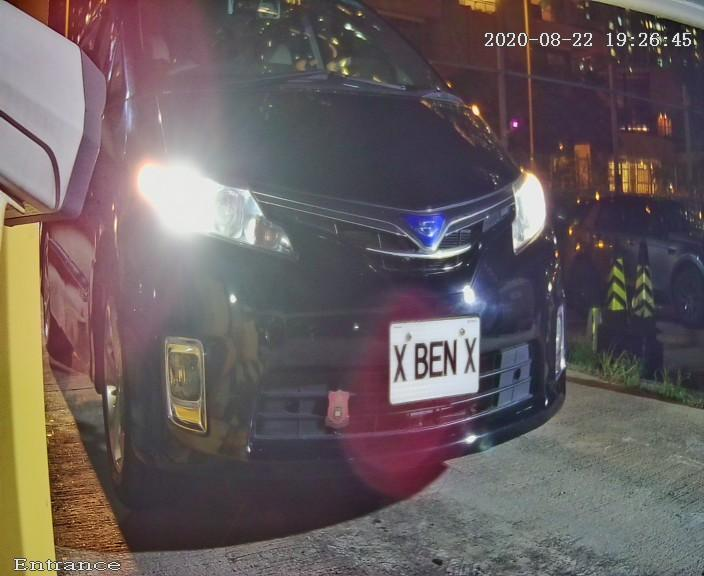Car: (29, 8, 613, 535)
License Plate: (381, 309, 494, 415)
